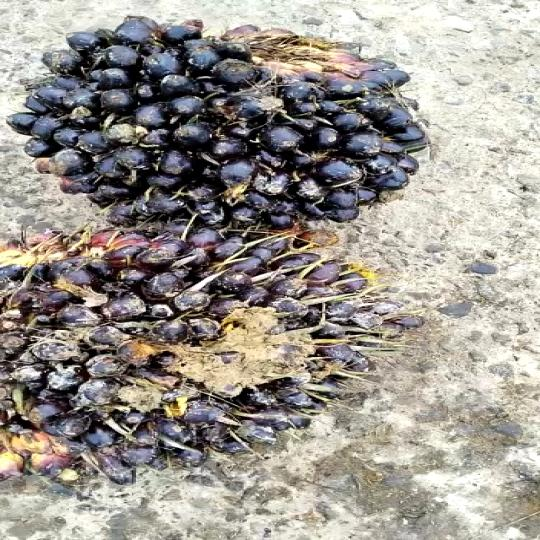mentah: (0, 219, 396, 517), (0, 0, 472, 243)
